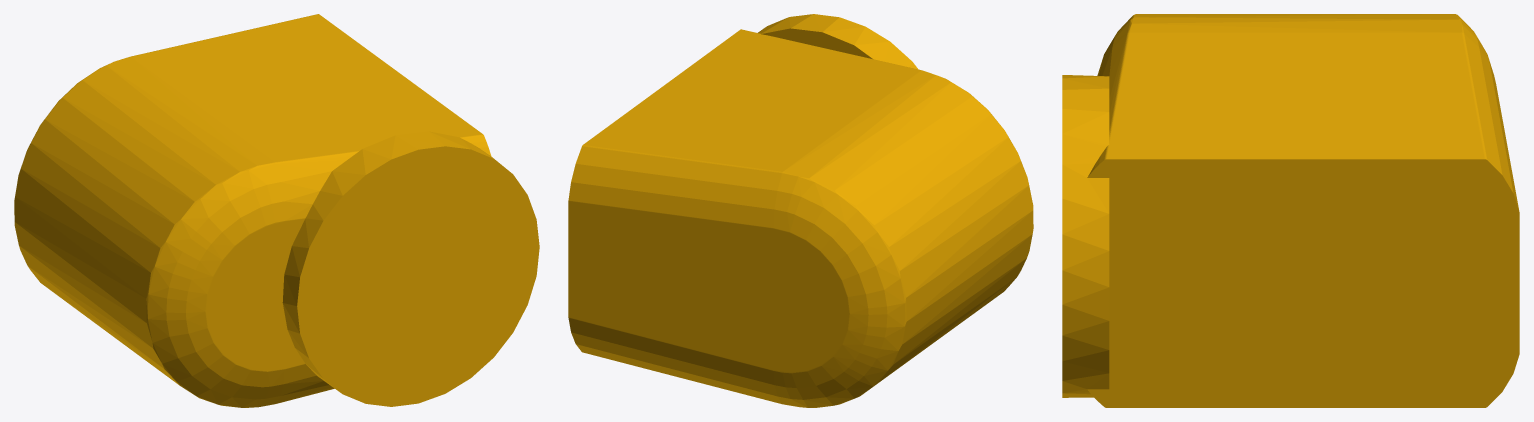
3 renders of one model, left to right at view 1: azimuth 30°, elevation 25°; view 2: azimuth 150°, elevation 25°; view 3: azimuth 270°, elevation 25°, orthographic. The views are drawn at different scales.
Visible parts, largest first — view 1: link3; view 2: link3; view 3: link3.
Boxes of the visible parts, left/top/right/bottom form: link3: left=14, top=14, right=539, bottom=407; link3: left=568, top=14, right=1033, bottom=407; link3: left=1062, top=14, right=1519, bottom=407.
Size of the model in its own units: 0.1918 by 0.1841 by 0.13.
